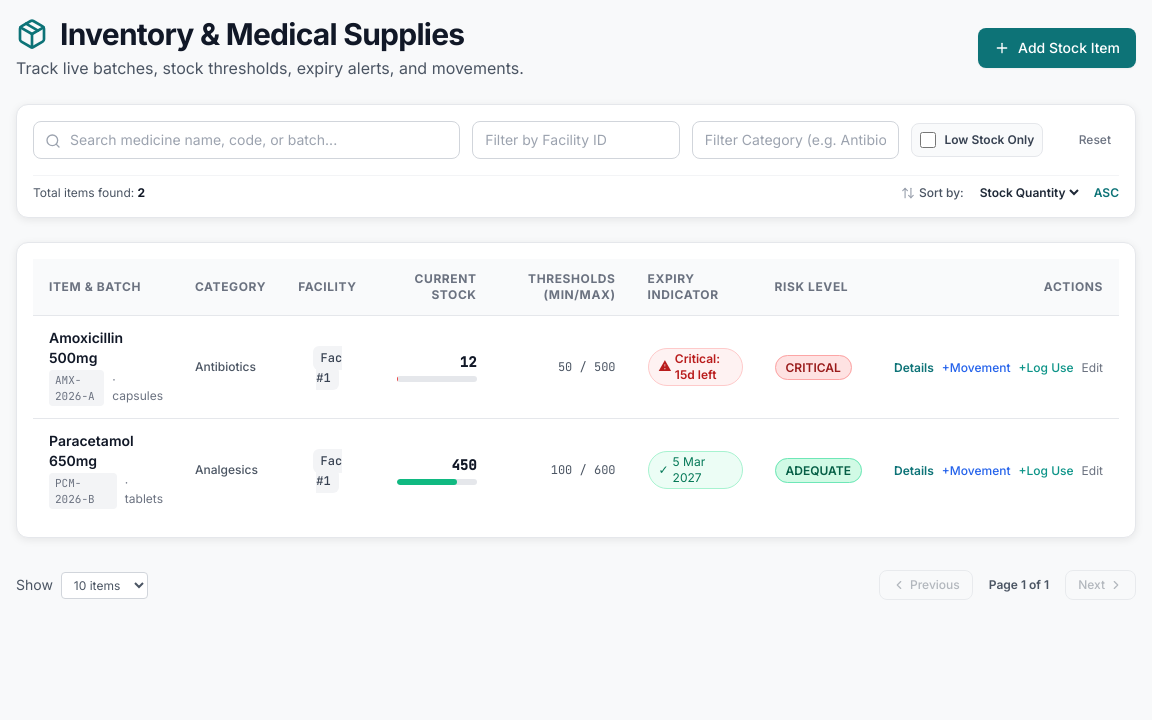
Phase 21 — Facilities & Inventory UI Test Suite › 9. Opens inventory details modal and displays movements and consumption history
This screenshot has width=1152, height=720.
Expected: the text "Amoxicillin 500mg" is shown, [49,329,123,366]
Click the button with test id "view-item-101": (914, 368) [894,360,934,376]
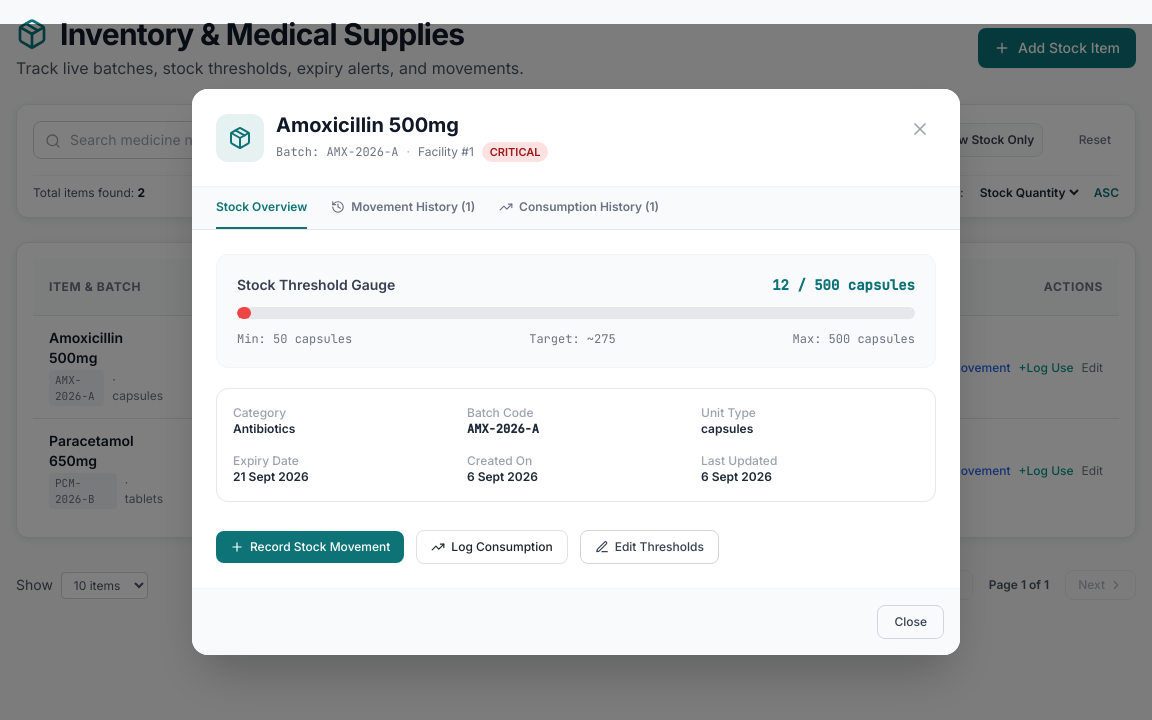
Now the text "Stock Threshold Gauge" is shown, box [237,275,395,295]
Note: Movement History Tab
Click the button with test id "tab-movements": (403, 208) [331,187,475,229]
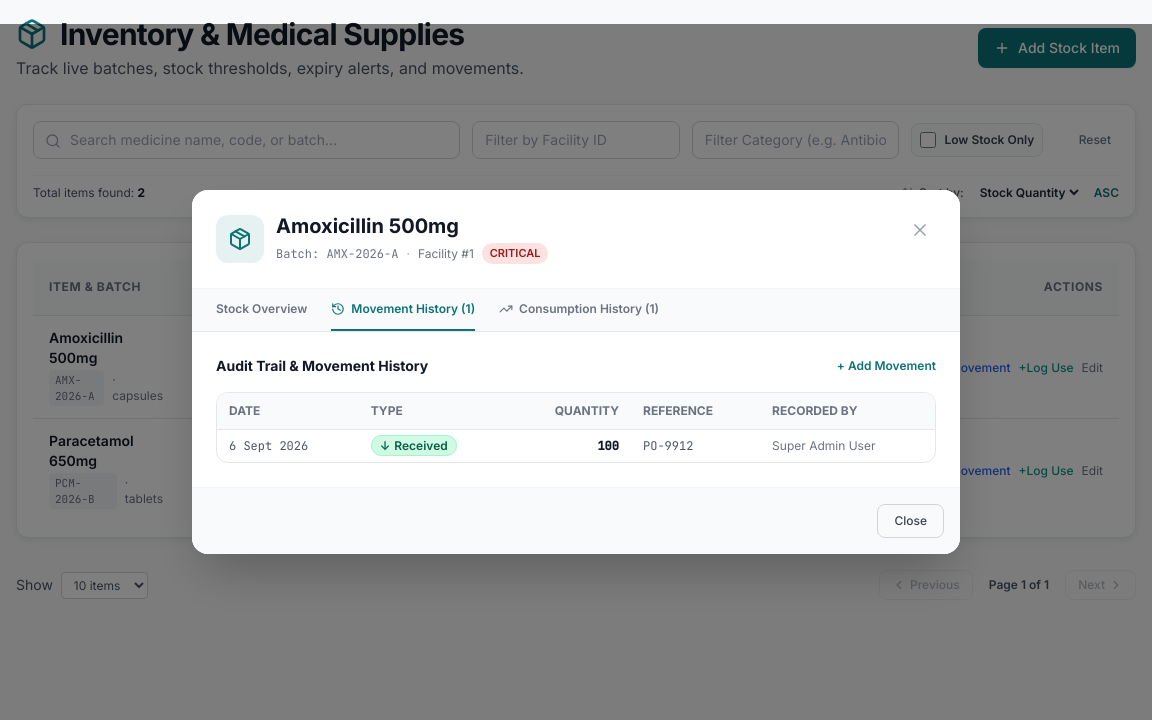
Now the element with test id "movements-history-tab" is shown, box [216,356,936,463]
Now the text "Received" is shown, box [394,438,448,453]
Now the text "PO-9912" is shown, box [631,429,760,462]
Note: Consumption History Tab
Click the button with test id "tab-consumption": (579, 310) [499,289,659,331]
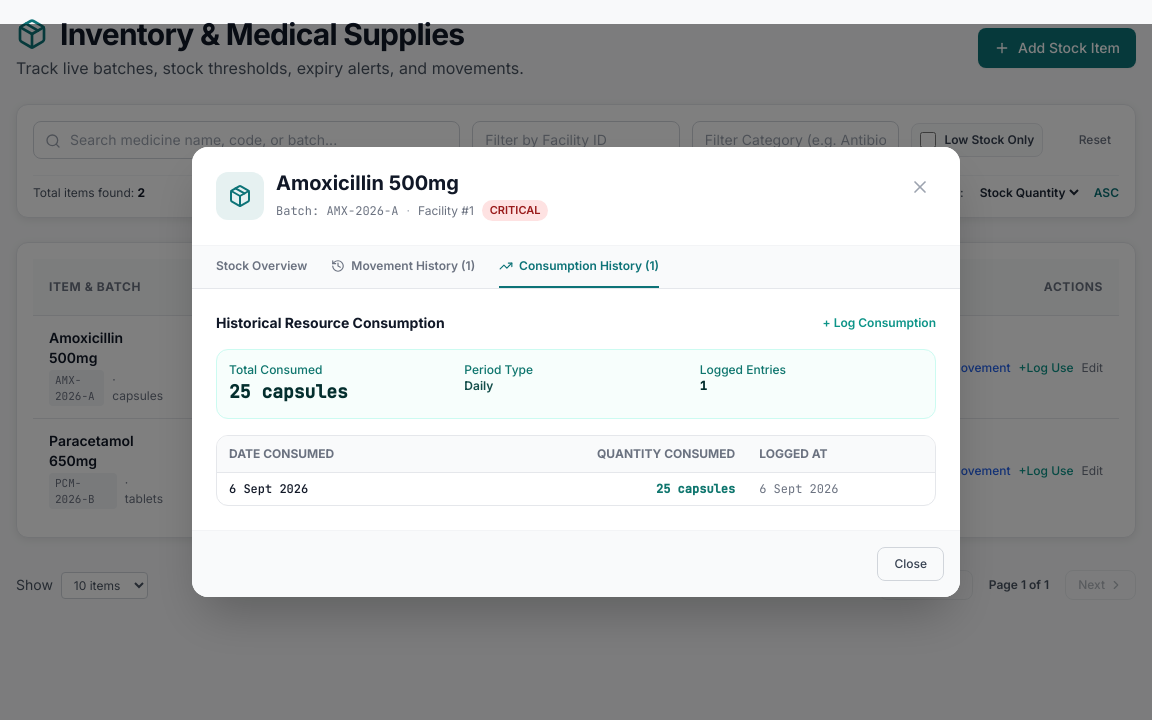
Now the element with test id "consumption-history-tab" is shown, box [216,313,936,506]
Now the text "Total Consumed" is shown, box [229,362,322,377]
Now the text "25 capsules" is shown, box [229,380,348,403]
